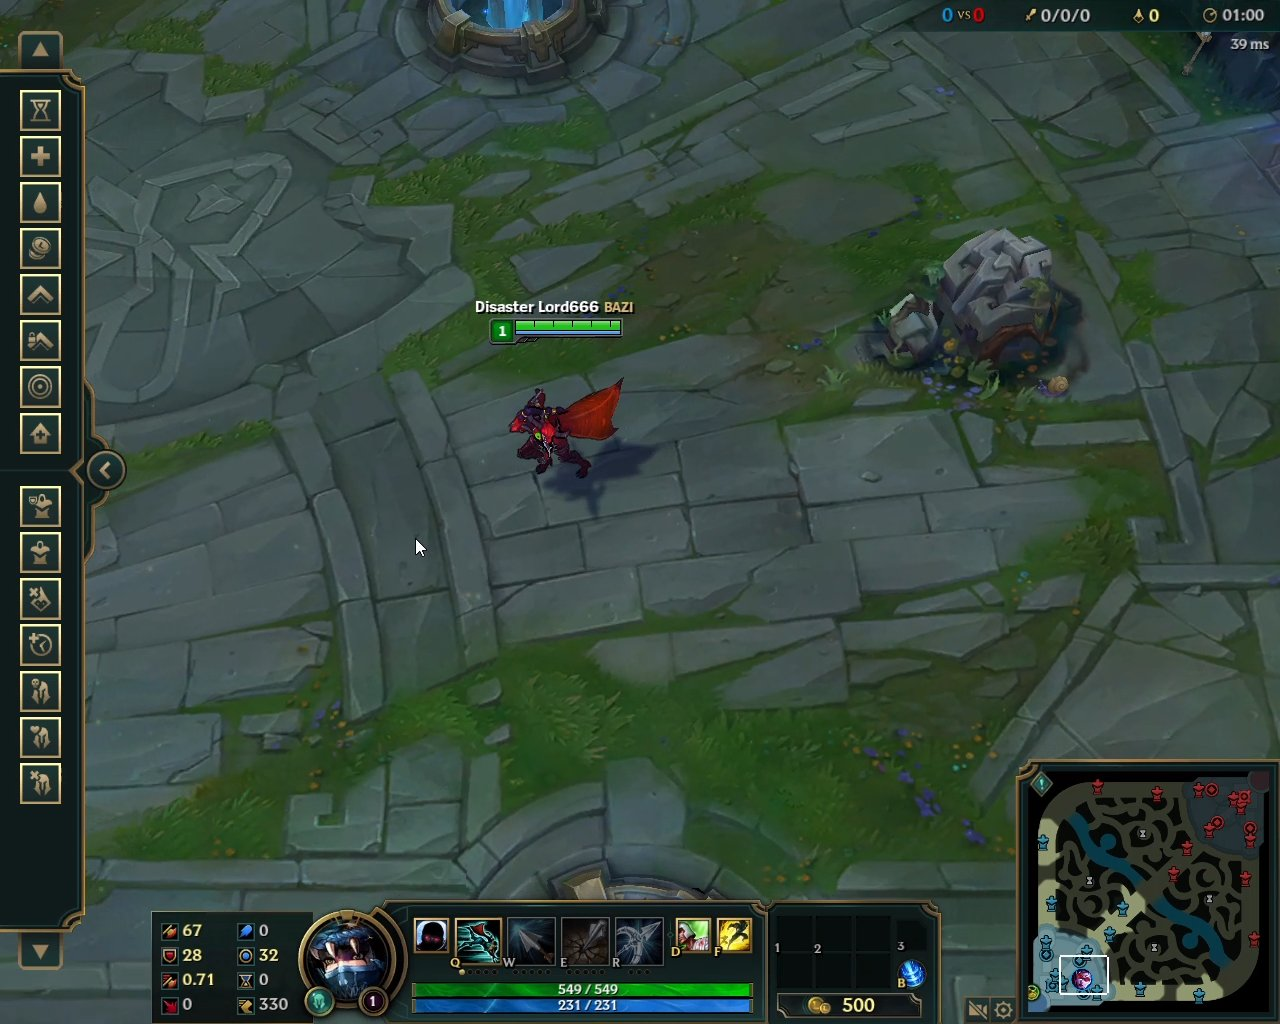Vayne: (501, 375, 635, 484)
